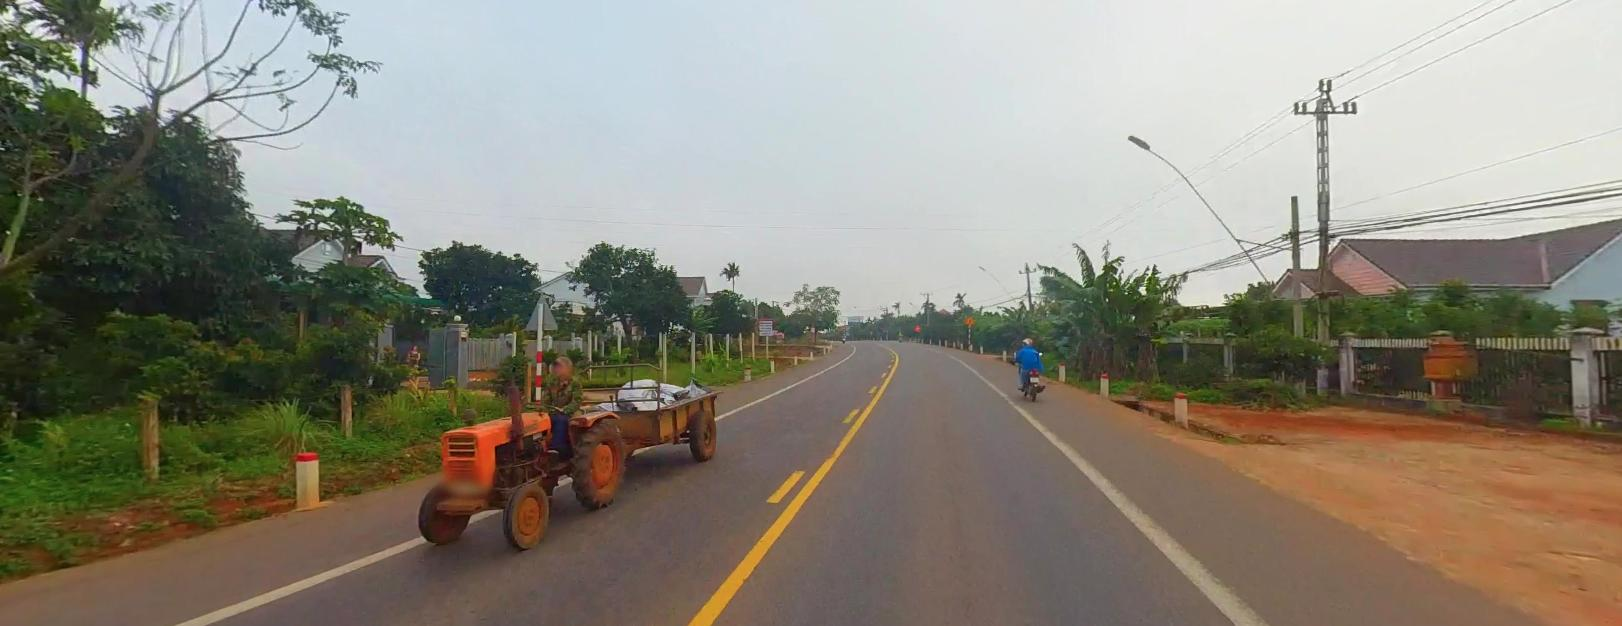Nguy hiem: (964, 314, 974, 323)
